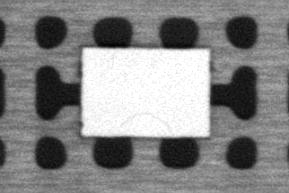DIE_CRACK: (120, 111, 173, 132)
